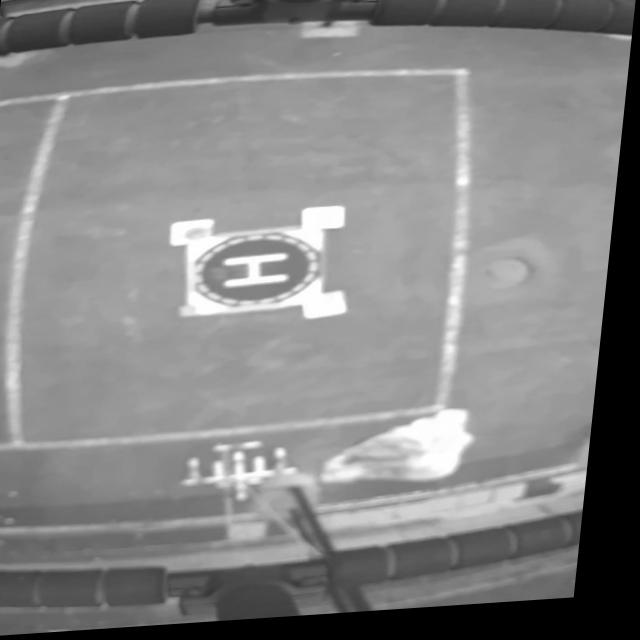Helipad: (229, 257, 295, 292)
